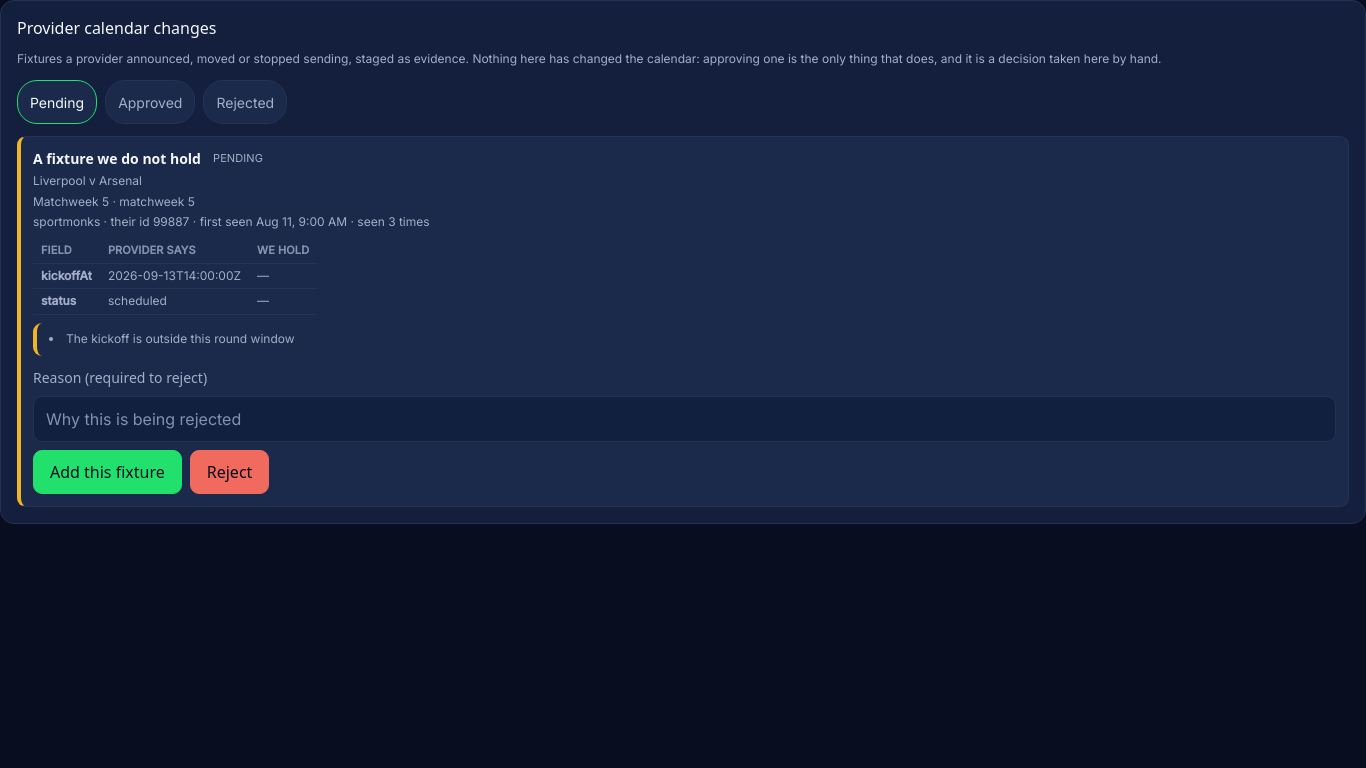
ProviderChangePanel › treats a repeated decision as an answer rather than a failure
The width and height of the screenshot is (1366, 768).
Click the button "Add this fixture". click: [107, 472]
box: x1=33 y1=450 x2=182 y2=494
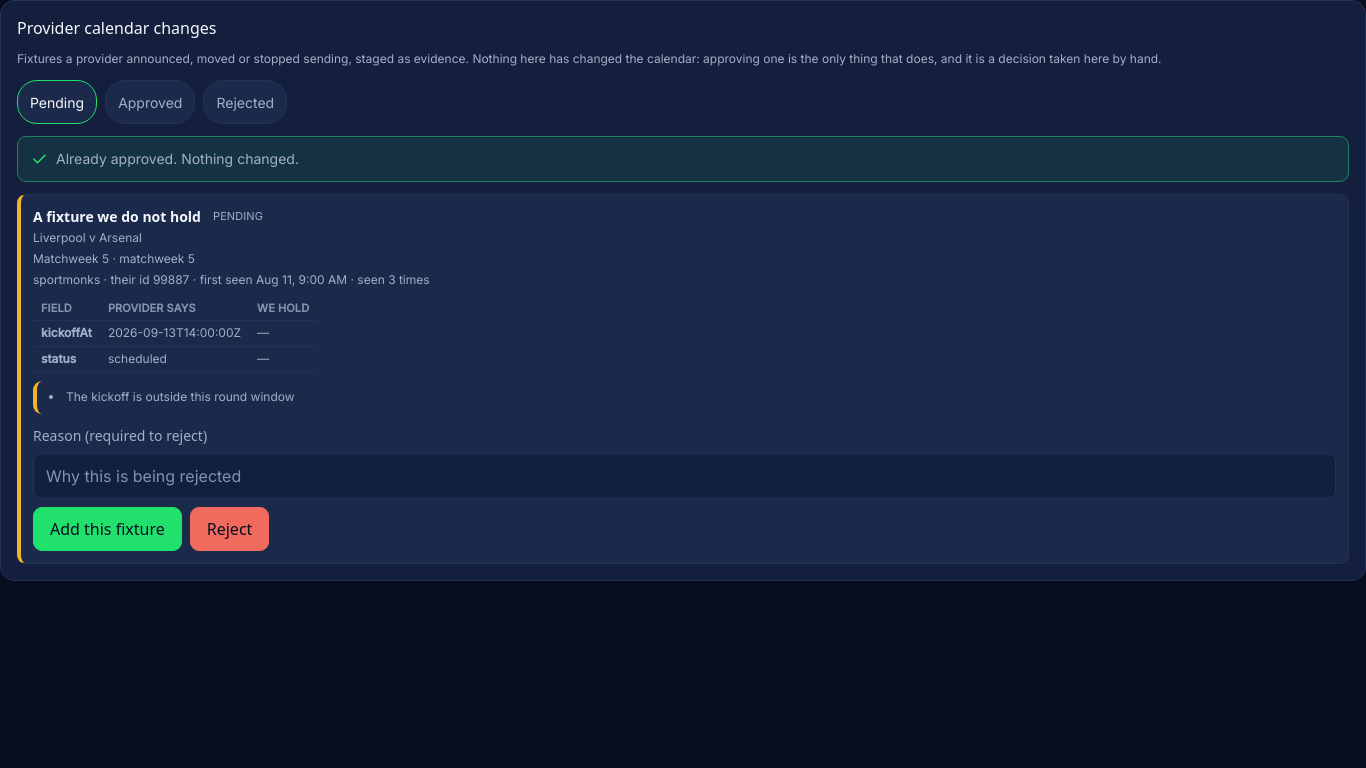
Expected: the text "Already approved. Nothing changed." is shown, x1=56 y1=150 x2=299 y2=167
